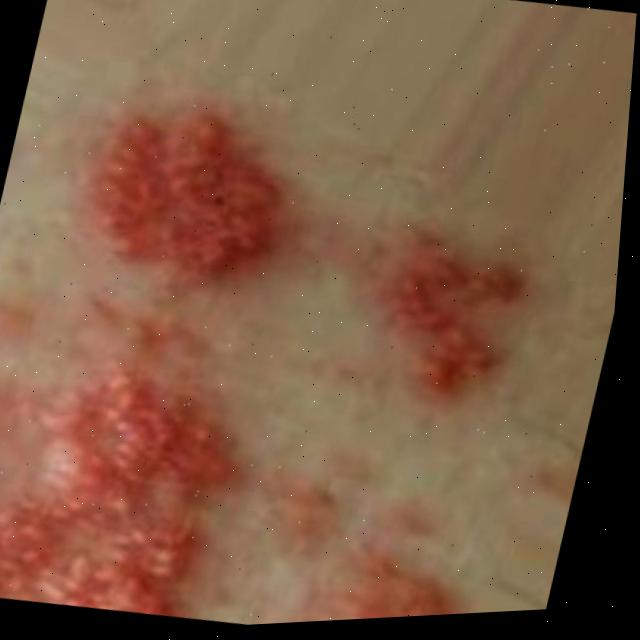Shingles: (0, 71, 341, 636), (341, 216, 538, 412), (332, 509, 484, 620)
